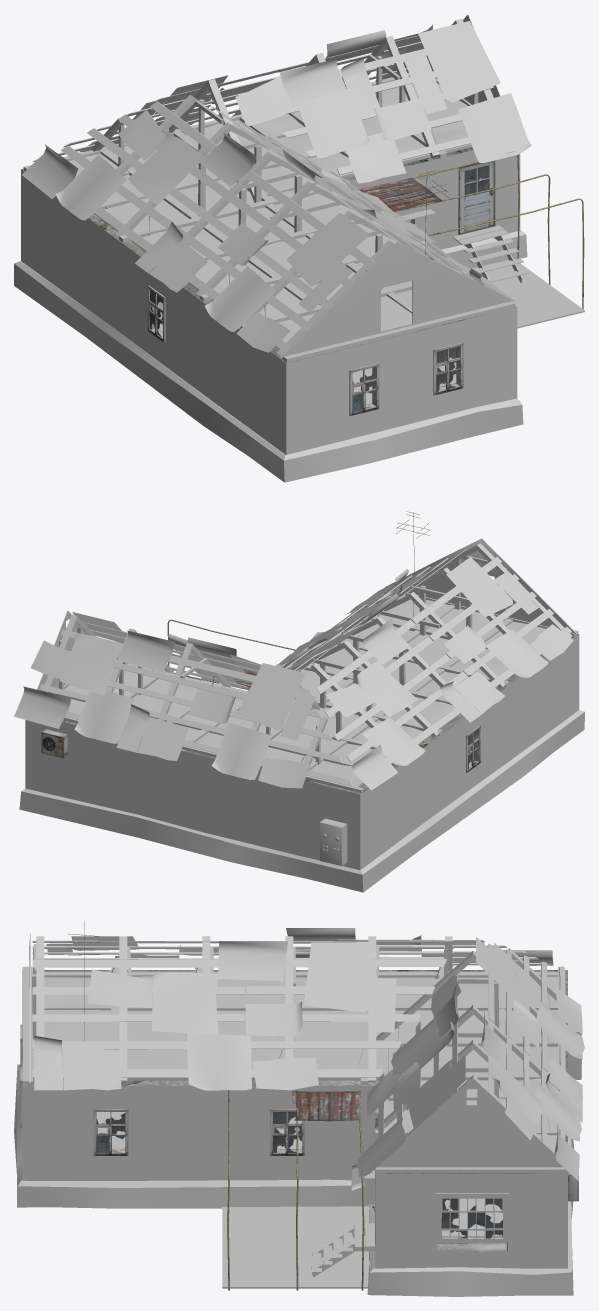
File: Houses_Ready_09_Form2.FBX
3 renders of one model, top to bottom at view 1: azimuth 30°, elevation 25°; view 2: azimuth 150°, elevation 25°; view 3: azimuth 270°, elevation 25°, orthographic. The views are drawn at different scales.
Visible parts, largest first — view 1: Attic_04_Form2, Corps_02_9, Roof_08_Form2, Foundation_04_2, Porch_07_2, Door_06, Windows_05, Windows_05_2, Electrical_Box_02_Open; view 2: Roof_08_Form2, Corps_02_9, Attic_04_Form2, Foundation_04_2, Electrical_Box_01, Air_03; view 3: Attic_04_Form2, Roof_08_Form2, Corps_02_9, Foundation_04_2, Porch_07_2, Windows_Big_02, Windows_05_2, Windows_05, Outflow_Big_01, Electrical_Box_02_Open.
Boxes of the visible parts, <box> form: Attic_04_Form2: <box>23,14,515,362</box>; Corps_02_9: <box>21,147,520,454</box>; Roof_08_Form2: <box>22,21,531,352</box>; Foundation_04_2: <box>14,230,527,482</box>; Porch_07_2: <box>358,151,584,328</box>; Door_06: <box>459,161,493,233</box>; Windows_05: <box>433,343,463,395</box>; Windows_05_2: <box>349,363,379,415</box>; Electrical_Box_02_Open: <box>397,209,435,239</box>; Roof_08_Form2: <box>14,557,573,790</box>; Corps_02_9: <box>25,593,579,869</box>; Attic_04_Form2: <box>37,538,578,792</box>; Foundation_04_2: <box>19,710,584,892</box>; Electrical_Box_01: <box>320,818,347,866</box>; Air_03: <box>41,729,67,758</box>; Attic_04_Form2: <box>22,933,567,1173</box>; Roof_08_Form2: <box>34,928,584,1180</box>; Corps_02_9: <box>22,970,567,1268</box>; Foundation_04_2: <box>14,1064,574,1296</box>; Porch_07_2: <box>222,1090,375,1290</box>; Windows_Big_02: <box>435,1193,508,1242</box>; Windows_05_2: <box>93,1109,128,1155</box>; Windows_05: <box>270,1109,304,1155</box>; Outflow_Big_01: <box>436,1242,507,1251</box>; Electrical_Box_02_Open: <box>351,1164,374,1204</box>.
Bounding box in the file's own units: 1501 × 1688 × 825.
